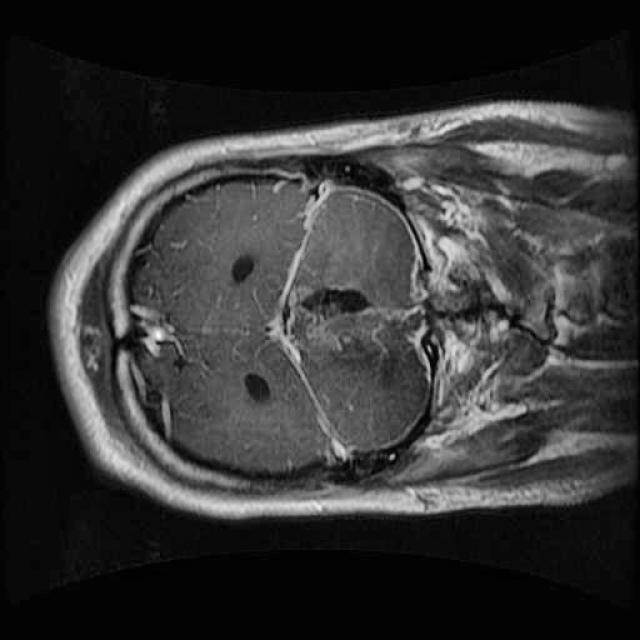Tumor: (274, 271, 411, 381)
